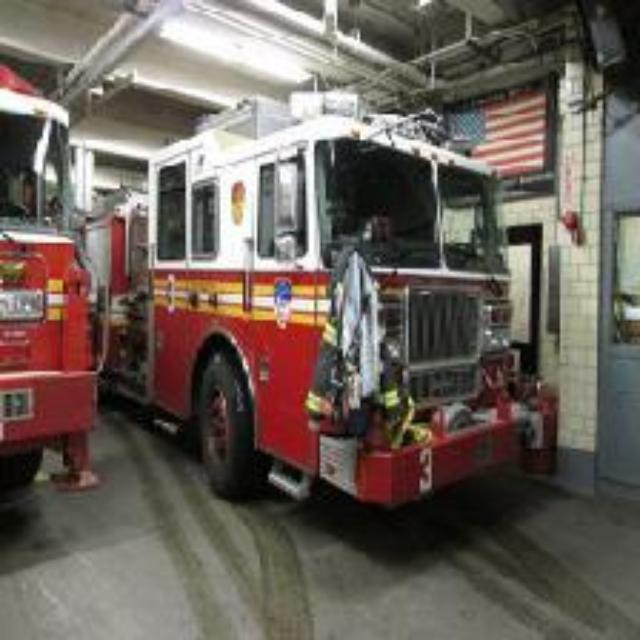emergency: (88, 100, 532, 522), (0, 63, 91, 503)
